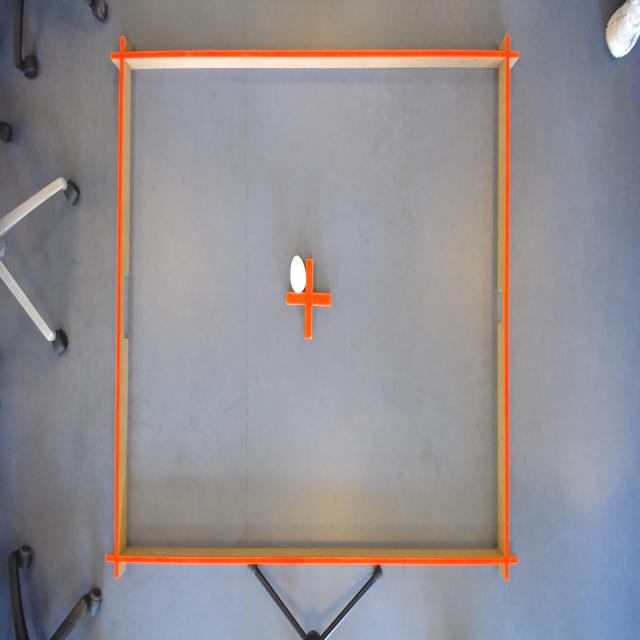cross: (285, 256, 333, 341)
egg: (288, 254, 308, 296)
